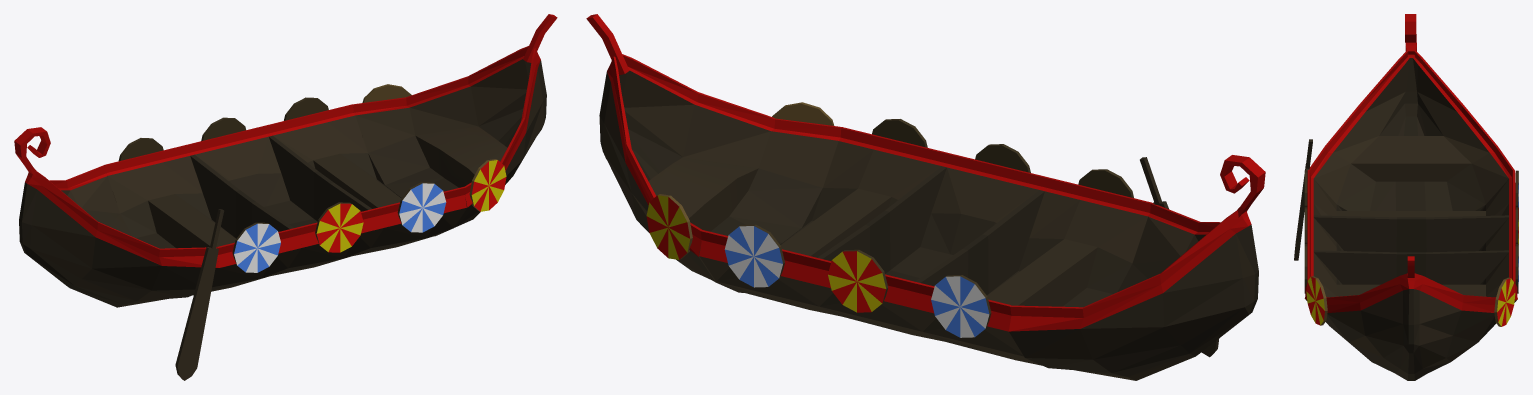
File: Ship_01.fbx
3 views of the same model, side by side, from view 1: azimuth 30°, elevation 25°; view 2: azimuth 150°, elevation 25°; view 3: azimuth 270°, elevation 25° (orthographic). The views are drawn at different scales.
Visible parts, largest first — view 1: Ship_01, Rudder; view 2: Ship_01, Rudder; view 3: Ship_01, Rudder.
Part boxes in pixels (x1,y1,x2,y2): Ship_01: [14, 14, 557, 307]; Rudder: [175, 209, 224, 380]; Ship_01: [586, 14, 1265, 380]; Rudder: [1140, 157, 1219, 357]; Ship_01: [1304, 14, 1518, 380]; Rudder: [1294, 139, 1312, 260].
Bounding box in the file's own units: 2478 × 990 × 981.
